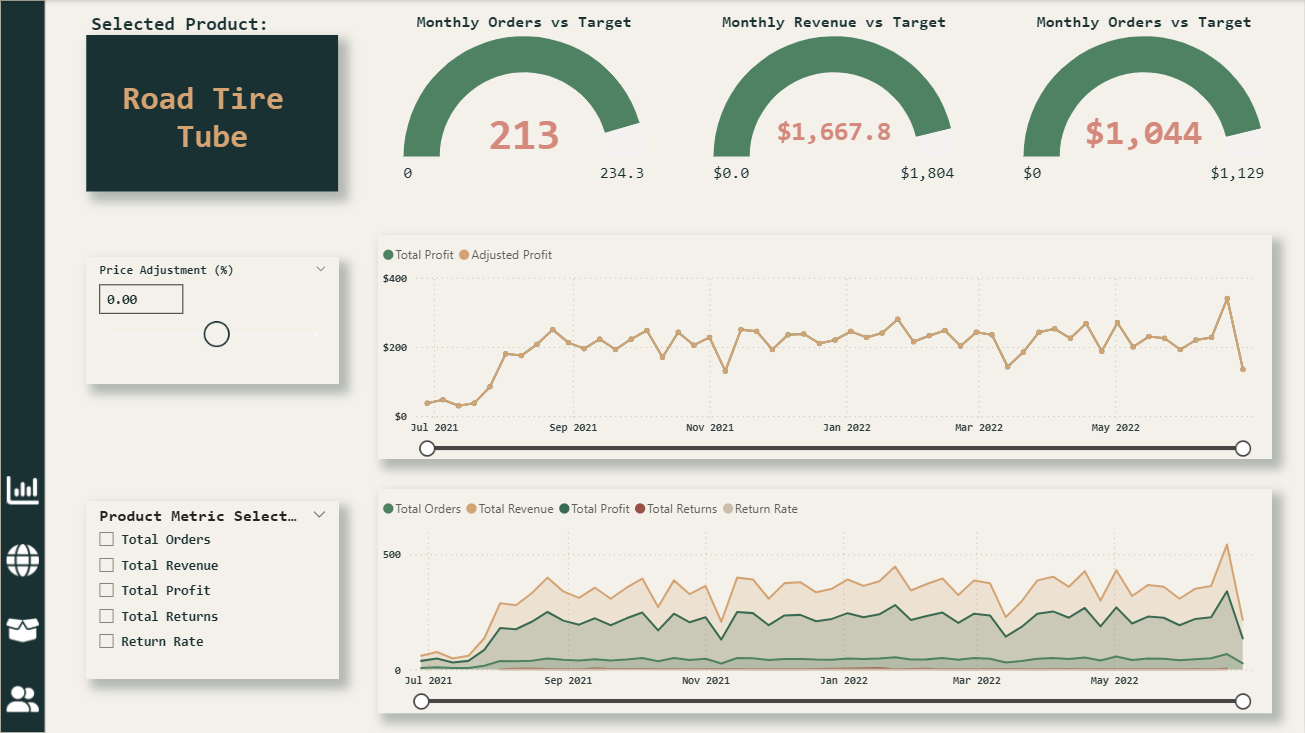

What the dashboard file says about the page in this screenshot:
{"tool":"powerbi","page":{"name":"Product Detail","canvas":[1280,720],"ordinal":2},"visuals":[{"type":"shape","box":[0,0,45,720],"z":0},{"type":"actionButton","box":[0,529.9,44.8,39.8],"z":0,"group":"g1"},{"type":"gauge","title":"Monthly Orders vs Target","fields":{"MaxValue":["Measure Table.Target Orders"],"Y":["Measure Table.Total Orders"]},"box":[388.8,12.5,251.2,175],"z":1000},{"type":"actionButton","box":[0,461.5,44.8,39.8],"z":1000,"group":"g1"},{"type":"gauge","title":"Monthly Revenue vs Target","fields":{"MaxValue":["Measure Table.Target Revenue"],"Y":["Measure Table.Total Revenue"]},"box":[693.8,12.5,251.2,175],"z":2000},{"type":"actionButton","box":[0,598.3,44.8,39.8],"z":2000,"group":"g1"},{"type":"gauge","title":"Monthly Orders vs Target","fields":{"MaxValue":["Measure Table.Target Profit"],"Y":["Measure Table.Total Profit"]},"box":[997.5,12.5,251.2,175],"z":3000},{"type":"actionButton","box":[0,666.8,44.8,39.8],"z":3000,"group":"g1"},{"type":"lineChart","title":"Profit Trending","fields":{"Category":["dim Calendar.Date Hierarchy.Start of Year","dim Calendar.Date Hierarchy.Start of Month","dim Calendar.Date Hierarchy.Start of Week","dim Calendar.Date Hierarchy.Date"],"Y":["Measure Table.Total Profit","Measure Table.Adjusted Profit"]},"box":[370,231.2,878.8,220],"z":4000},{"type":"areaChart","title":"Returns Trending","fields":{"Category":["dim Calendar.Date Hierarchy.Start of Year","dim Calendar.Date Hierarchy.Start of Month","dim Calendar.Date Hierarchy.Start of Week","dim Calendar.Date Hierarchy.Date"],"Y":["Measure Table.Total Orders","Measure Table.Total Revenue","Measure Table.Total Profit","Measure Table.Total Returns","Measure Table.Return Rate"]},"box":[370.6,479.8,878.5,219.6],"z":5000},{"type":"card","fields":{"Values":["Min(dim Product.ProductName)"]},"box":[85,33.8,247.5,153.8],"z":6000},{"type":"textbox","title":"Selected Product:","box":[85,12.5,247.5,21.2],"z":7000},{"type":"group","id":"g1","title":"Navigation Buttons","box":[0,461.5,44.8,245.1],"z":8000},{"type":"slicer","fields":{"Values":["Price Adjustment (%).Price Adjustment (%)"]},"box":[84.7,252.8,247.9,123.9],"z":8001},{"type":"slicer","fields":{"Values":["Product Metric Selection.Product Metric Selection"]},"box":[84.7,492,247.9,174.2],"z":8002}]}

Visuals, with their boxes in screenshot pixels (x1, y1, x2, y2), scaled from the page's 1280x720 canvas onto the 1305x733 screenshot:
shape: 0 0 46 732
actionButton: 0 539 46 580
"Monthly Orders vs Target" gauge: 396 13 652 191
actionButton: 0 470 46 510
"Monthly Revenue vs Target" gauge: 707 13 963 191
actionButton: 0 609 46 650
"Monthly Orders vs Target" gauge: 1017 13 1273 191
actionButton: 0 679 46 719
"Profit Trending" lineChart: 377 235 1273 459
"Returns Trending" areaChart: 378 488 1273 712
card - Min(dim Product.ProductName): 87 34 339 191
"Selected Product:" textbox: 87 13 339 34
"Navigation Buttons" group: 0 470 46 719
slicer - Price Adjustment (%).Price Adjustment (%): 86 257 339 384
slicer - Product Metric Selection.Product Metric Selection: 86 501 339 678
